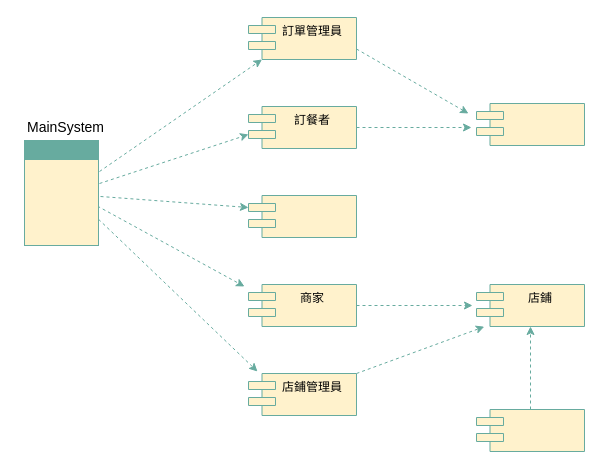
This 602x469 diagram has some shape labels left out. Here are the shapes that lost their labels. From the top down, the centre of each, then its label:
the point at 530,124: 訂單
the point at 302,216: 系統管理員
the point at 530,430: 餐飲
